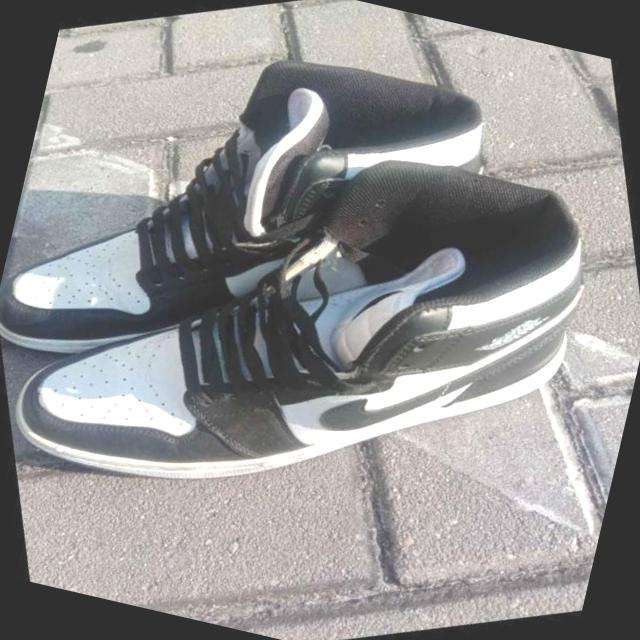nike_fake_jordan: (0, 15, 640, 628), (0, 0, 567, 470)
